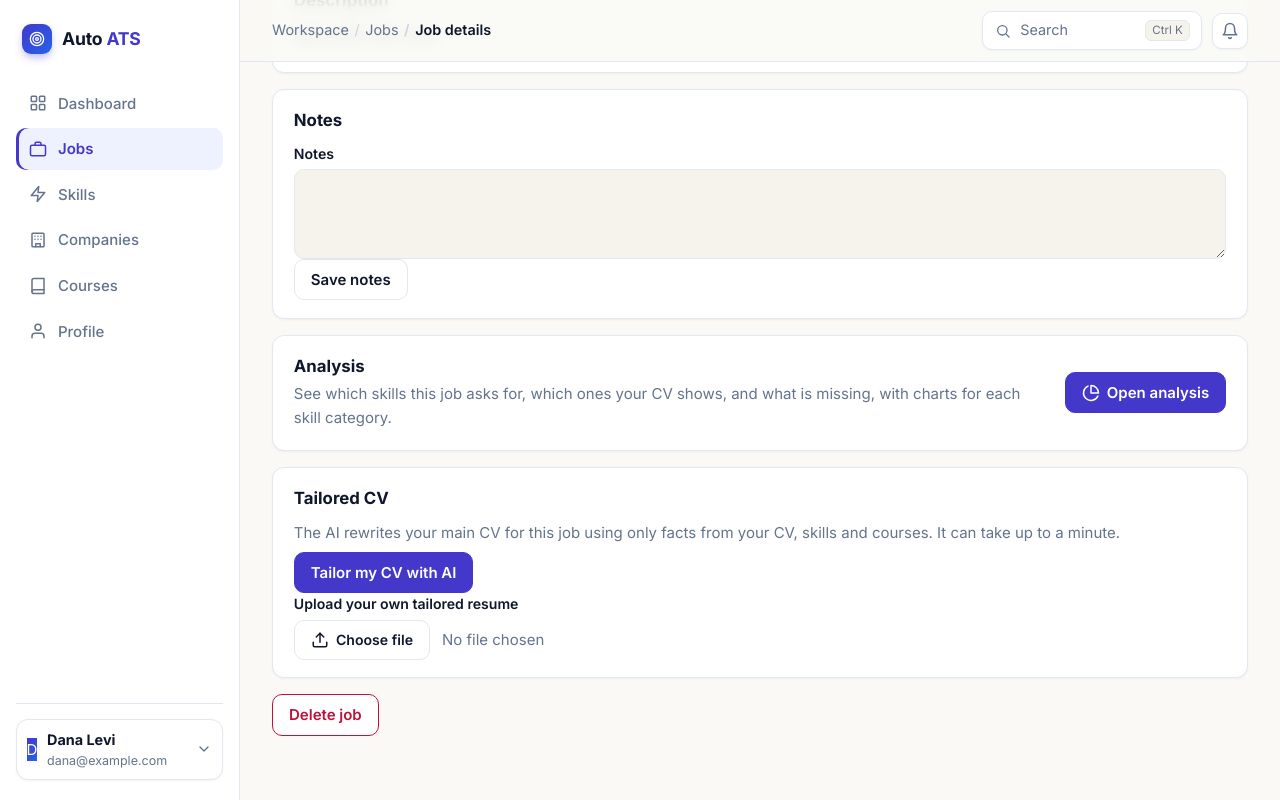
Test: JobDetailPage AI tailoring › GivenUnsupportedSkillsFromAi_WhenFinished_ThenWarningNamesThem
This screenshot has width=1280, height=800.
(page scrolled)
Click the button "Tailor my CV with AI".
click(384, 573)  # box [294,552,473,594]
(page scrolled)
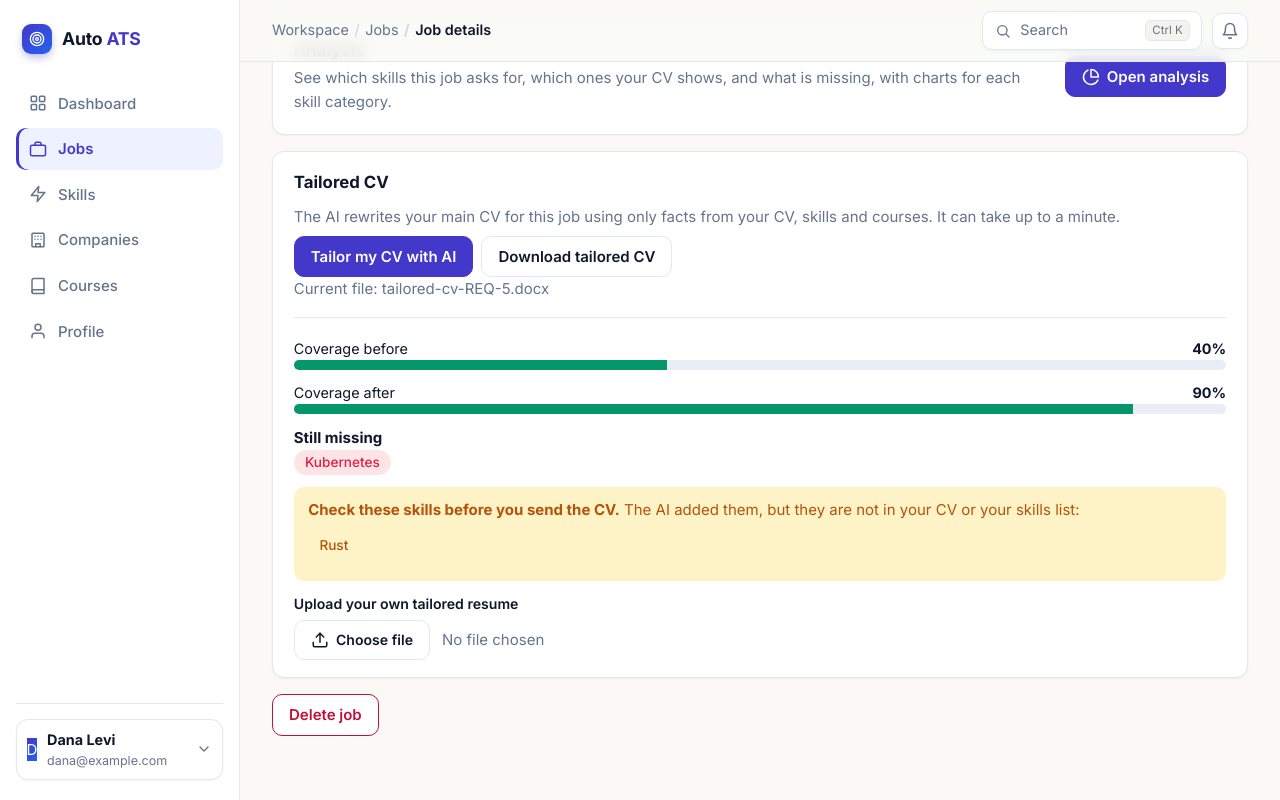
Now the message shows "Check these skills before you send the CV.", box [308,500,620,519]
Now the text "Rust" is shown, box [308,533,360,559]
